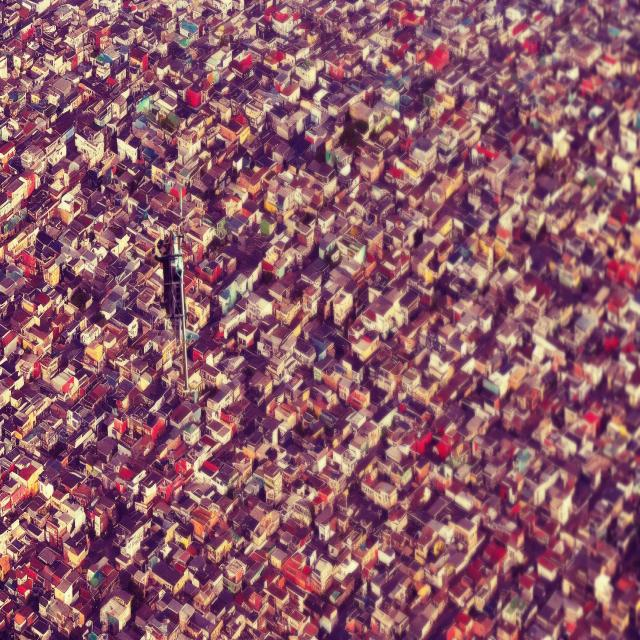airplane: (154, 188, 200, 392)
